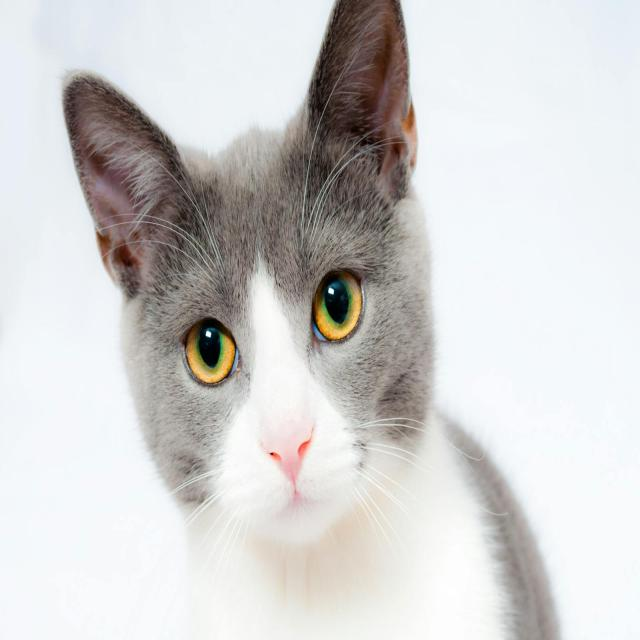Cat: (59, 1, 563, 638)
